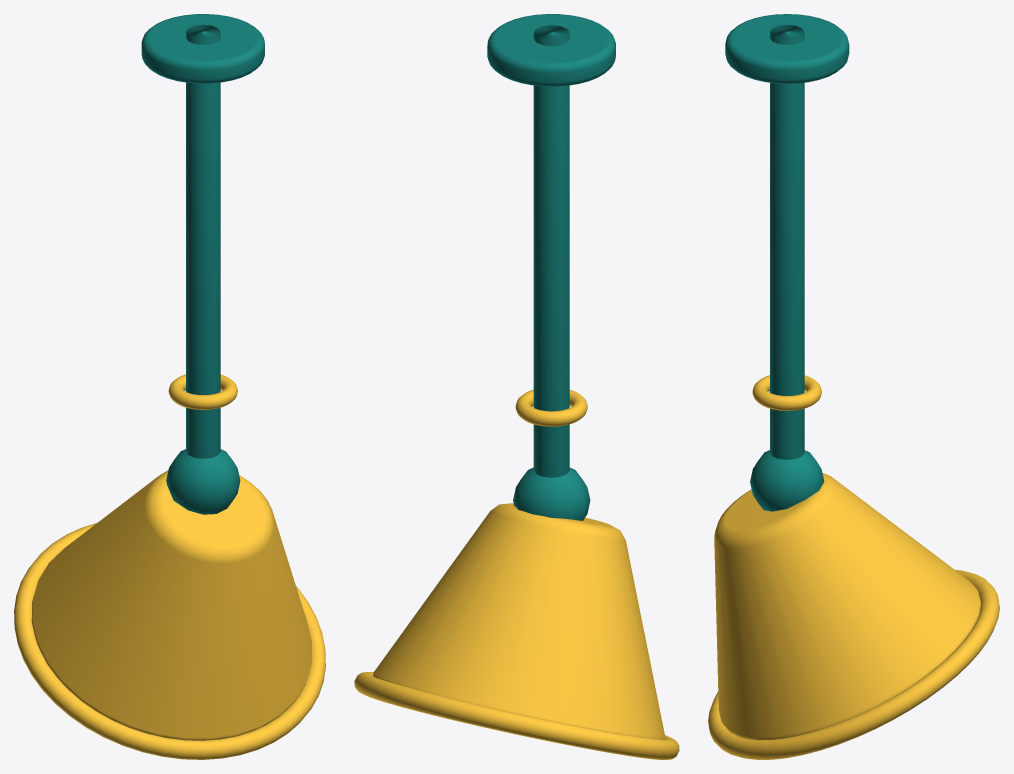
File: TankSpotlight.fbx
The picture shows the model from 3 angles, left to right: view 1: azimuth 30°, elevation 25°; view 2: azimuth 150°, elevation 25°; view 3: azimuth 270°, elevation 25°; orthographic projection. The views are drawn at different scales.
Parts seen in each view (by area): view 1: TankSpotlight mesh; view 2: TankSpotlight mesh; view 3: TankSpotlight mesh.
Boxes of the visible parts, x1,y1,x2,y2 form: TankSpotlight mesh: (14, 14, 325, 759); TankSpotlight mesh: (354, 14, 679, 759); TankSpotlight mesh: (708, 14, 999, 759).
Bounding box in the file's own units: 0.258 × 0.6216 × 0.2353.
